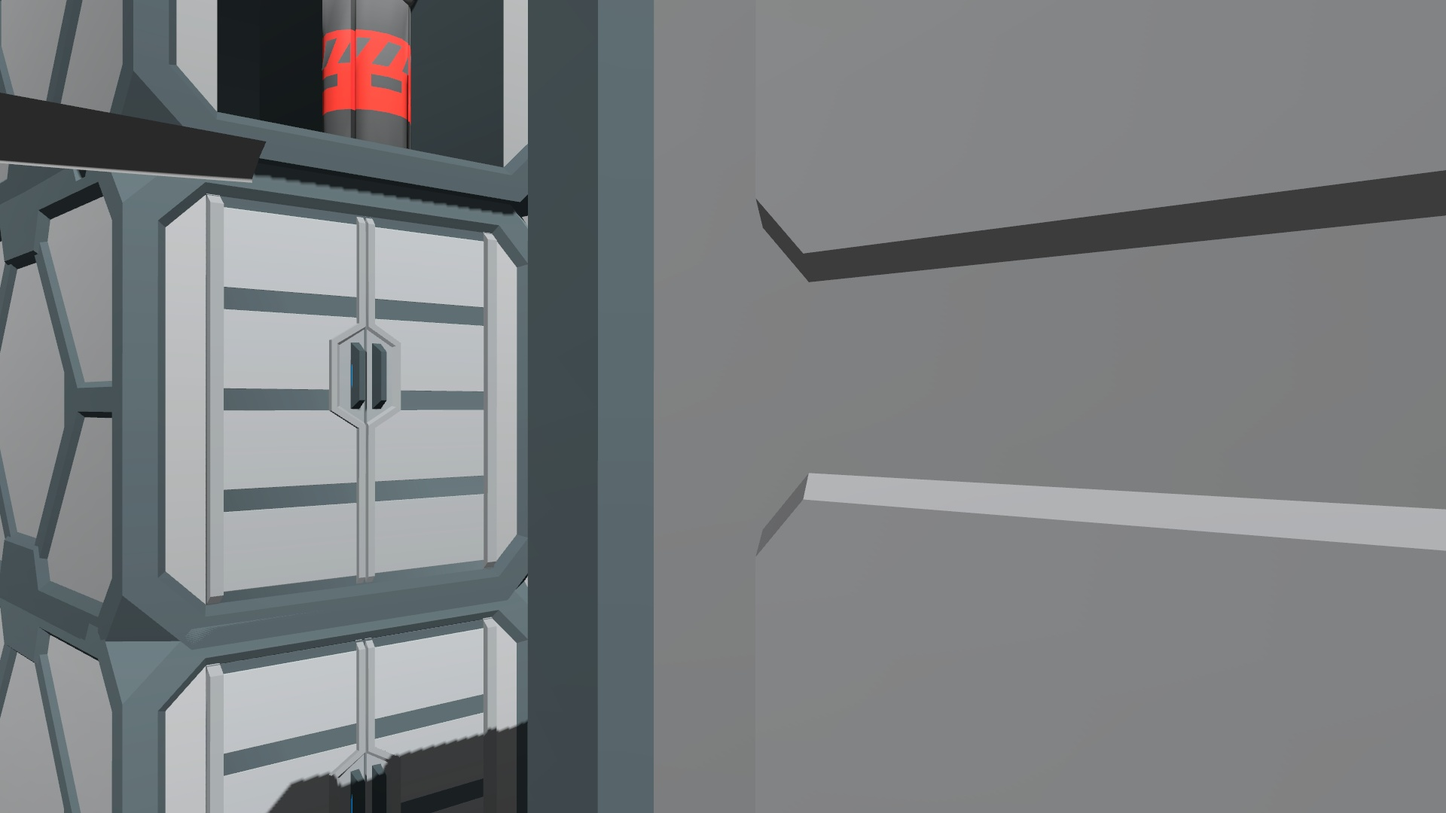red_barrel: (316, 0, 417, 157)
